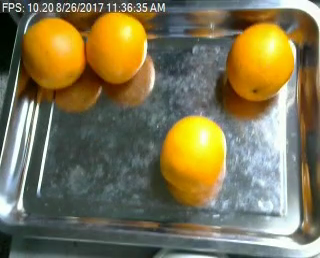Orange: (159, 114, 227, 192), (227, 21, 295, 99), (19, 16, 84, 88), (87, 13, 146, 83)
